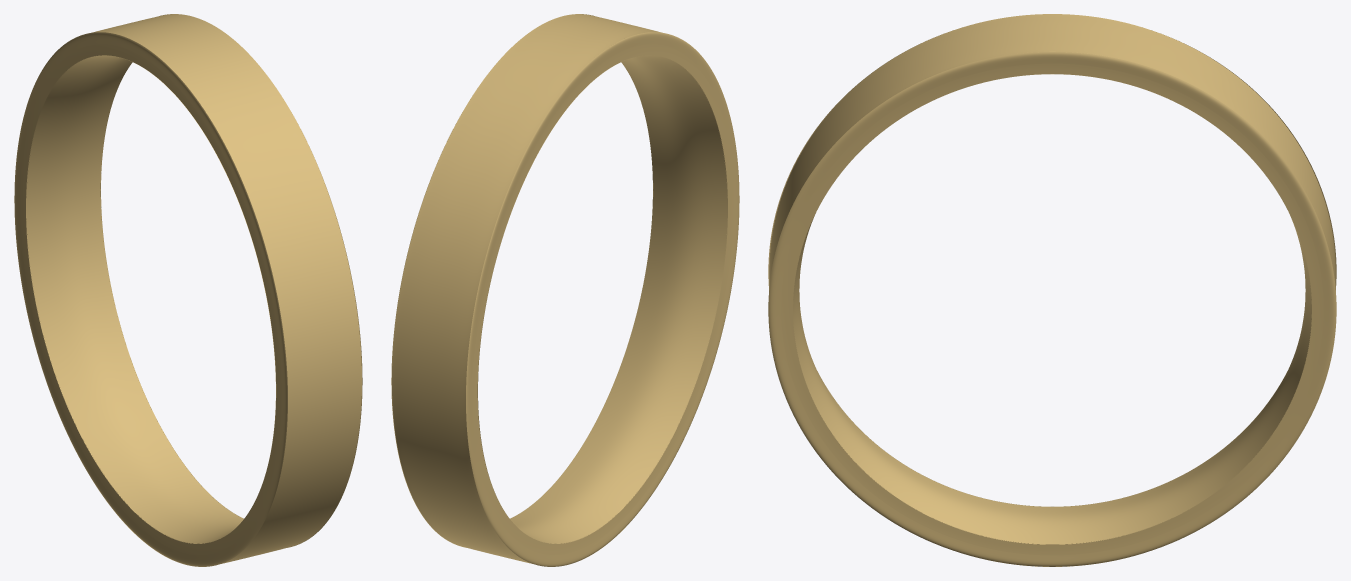
3 views of the same model, side by side, from view 1: azimuth 30°, elevation 25°; view 2: azimuth 150°, elevation 25°; view 3: azimuth 270°, elevation 25° (orthographic). The views are drawn at different scales.
Visible parts, largest first — view 1: P13-Outer, P13-Inner, P13-Sides; view 2: P13-Outer, P13-Inner, P13-Sides; view 3: P13-Sides, P13-Outer, P13-Inner.
Boxes of the visible parts, left/top/right/bottom form: P13-Outer: left=92, top=14, right=361, bottom=563; P13-Inner: left=26, top=55, right=276, bottom=543; P13-Sides: left=14, top=14, right=362, bottom=566; P13-Outer: left=392, top=14, right=661, bottom=563; P13-Inner: left=477, top=55, right=727, bottom=543; P13-Sides: left=391, top=14, right=739, bottom=566; P13-Sides: left=768, top=41, right=1336, bottom=566; P13-Outer: left=769, top=14, right=1335, bottom=566; P13-Inner: left=793, top=51, right=1311, bottom=544.
Size of the model in its own units: 0.3675 by 2.3 by 2.29.
